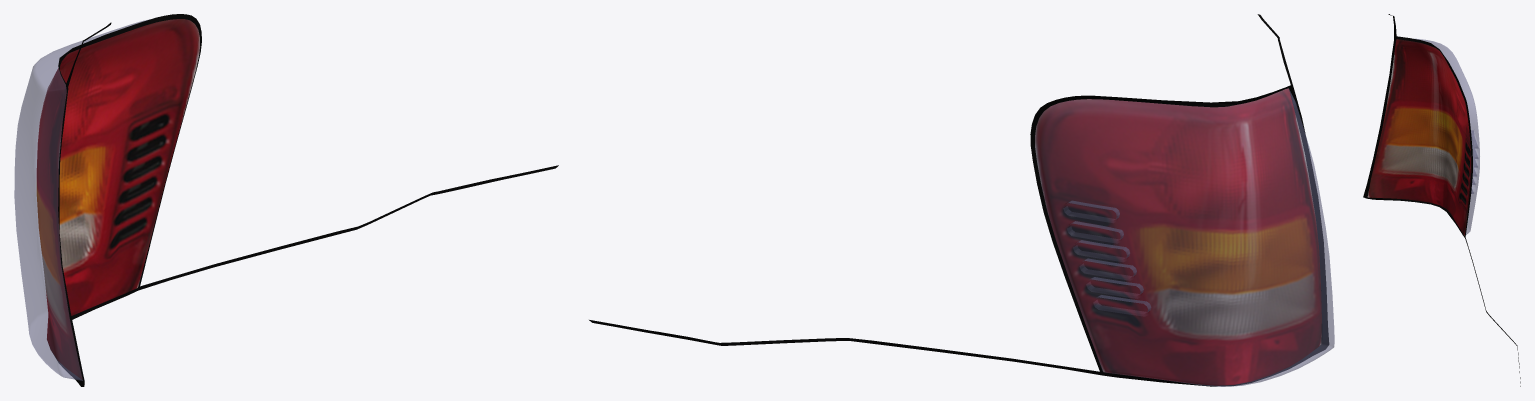
The picture shows the model from 3 angles, left to right: view 1: azimuth 30°, elevation 25°; view 2: azimuth 150°, elevation 25°; view 3: azimuth 270°, elevation 25°; orthographic projection. The views are drawn at different scales.
Parts seen in each view (by area): view 1: J731_541C_L_1_N_J731_541C_L, J731_541C_L_J731_541C_L_2_DTaSI, J731_541C_L_J731_541C_L_3_D; view 2: J731_541C_L_J731_541C_L_2_DTaSI, J731_541C_L_1_N_J731_541C_L, J731_541C_L_J731_541C_L_3_D; view 3: J731_541C_L_1_N_J731_541C_L, J731_541C_L_J731_541C_L_3_D, J731_541C_L_J731_541C_L_2_DTaSI.
Part boxes in pixels (x1,y1,x2,y2): J731_541C_L_1_N_J731_541C_L: (36,19,200,379); J731_541C_L_J731_541C_L_2_DTaSI: (14,19,149,380); J731_541C_L_J731_541C_L_3_D: (55,14,558,386); J731_541C_L_J731_541C_L_2_DTaSI: (1035,88,1334,386); J731_541C_L_1_N_J731_541C_L: (1035,88,1321,385); J731_541C_L_J731_541C_L_3_D: (589,14,1328,386); J731_541C_L_1_N_J731_541C_L: (1367,39,1471,235); J731_541C_L_J731_541C_L_3_D: (1363,14,1520,386); J731_541C_L_J731_541C_L_2_DTaSI: (1414,38,1479,234).
Size of the model in its own units: 87.11 by 48.01 by 32.13.
